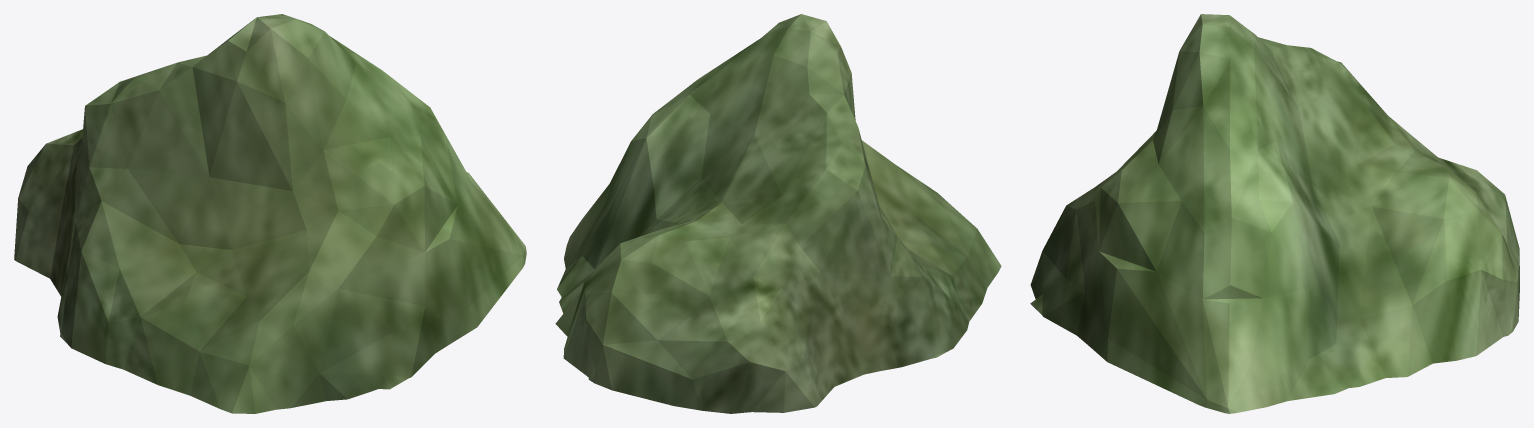
The picture shows the model from 3 angles, left to right: view 1: azimuth 30°, elevation 25°; view 2: azimuth 150°, elevation 25°; view 3: azimuth 270°, elevation 25°; orthographic projection. The views are drawn at different scales.
Bounding box in the file's own units: 1.34 × 0.8793 × 1.4.
1 material, 1 textured.
